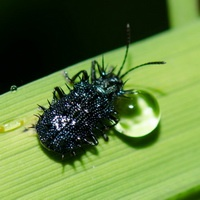insect: (36, 24, 164, 158)
